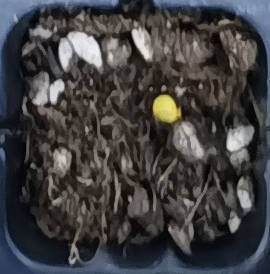pepper seed: (60, 32, 240, 156)
